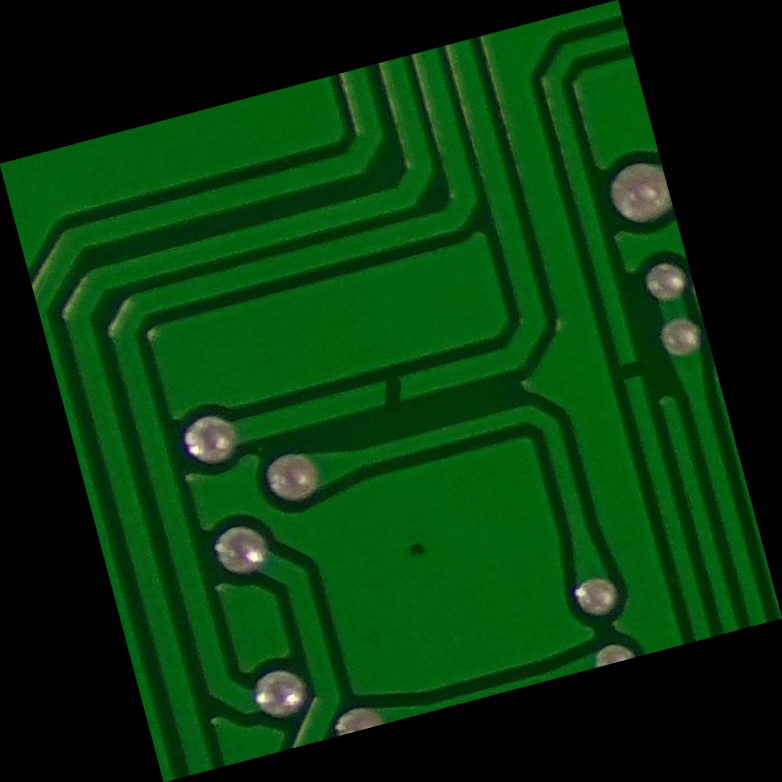open_circuit: (364, 364, 418, 418)
